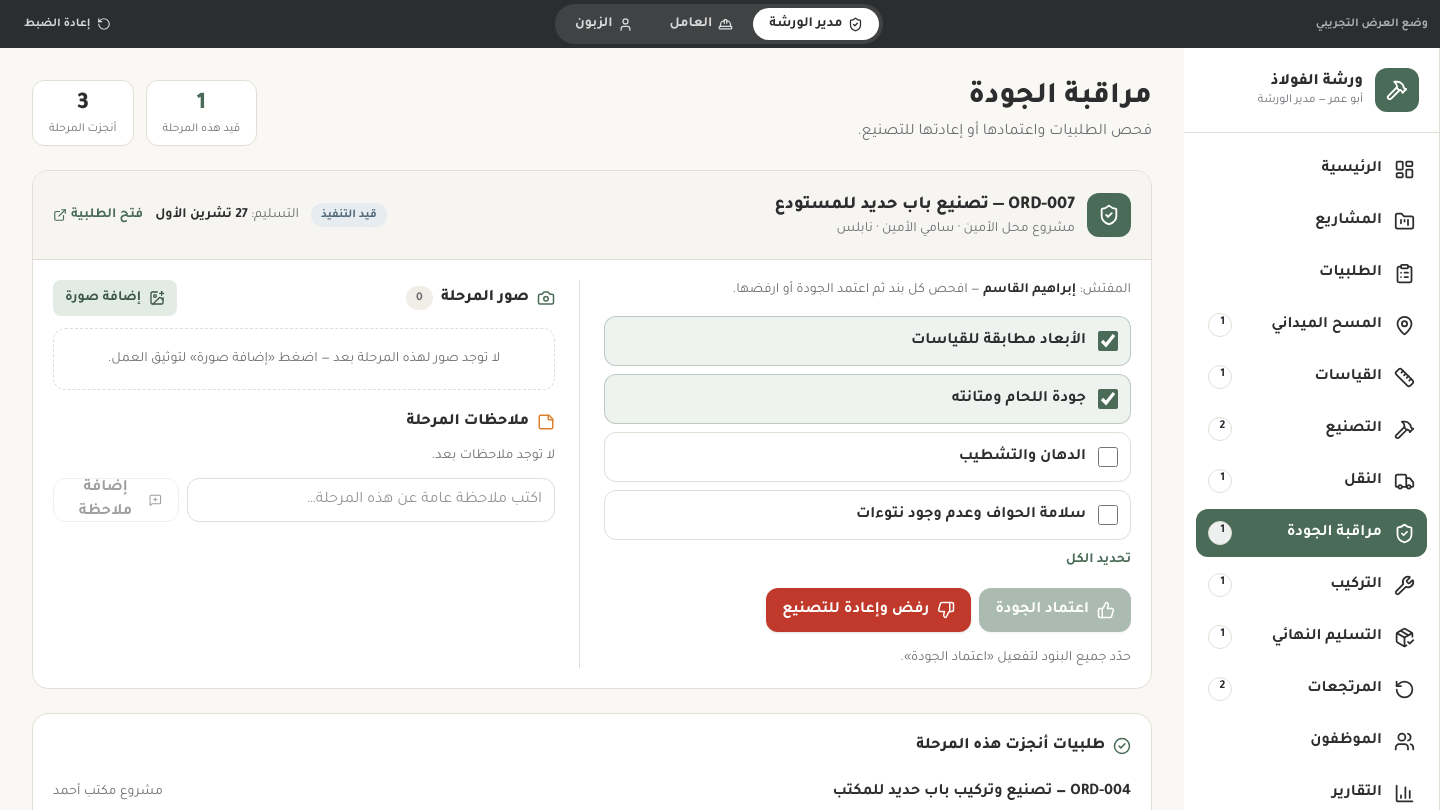
flows › admin quality reject sends back
Click the button "رفض وإعادة للتصنيع" at (869, 610), box 766,588 -> 971,632
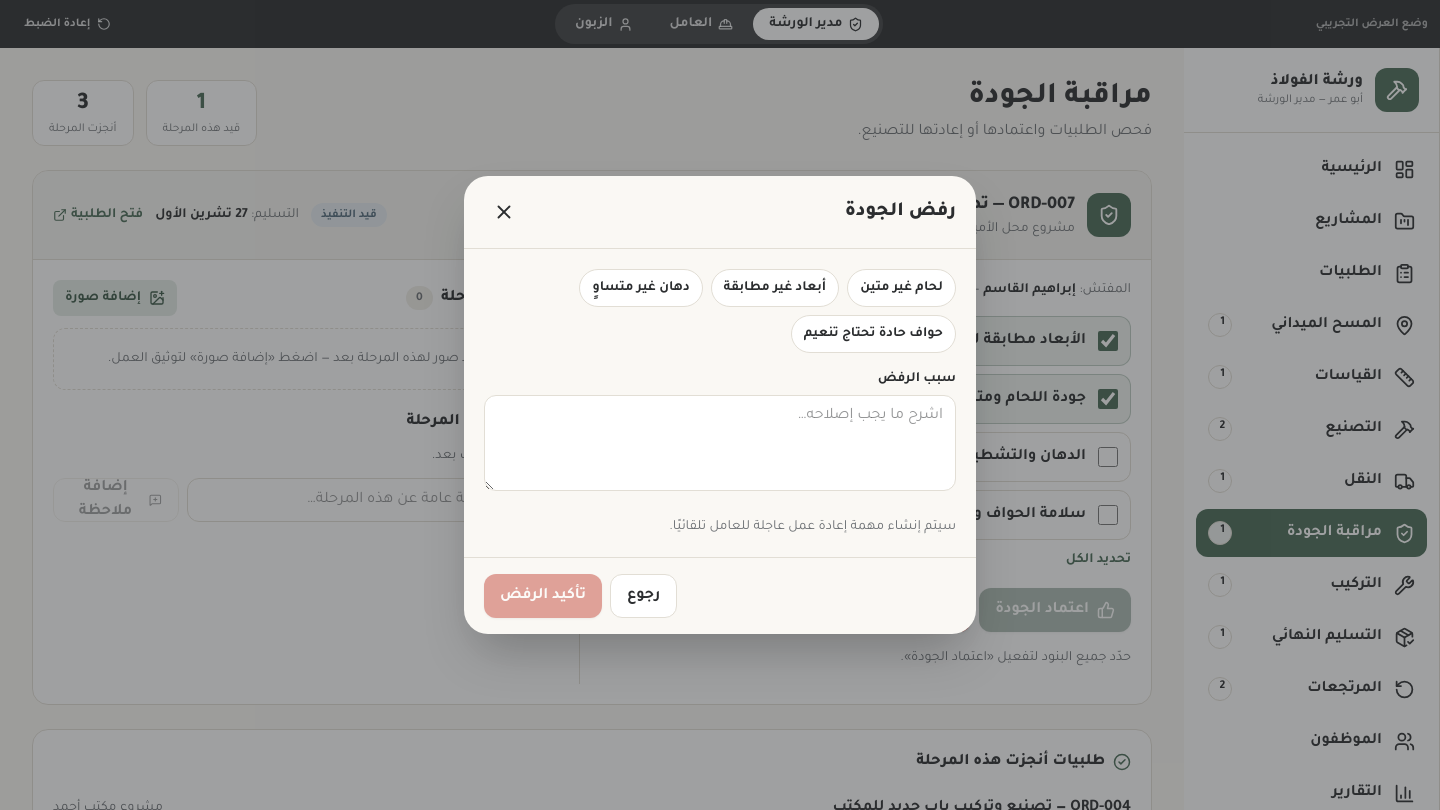
Click the button "لحام غير متين" at (902, 288), box 847,269 -> 956,307
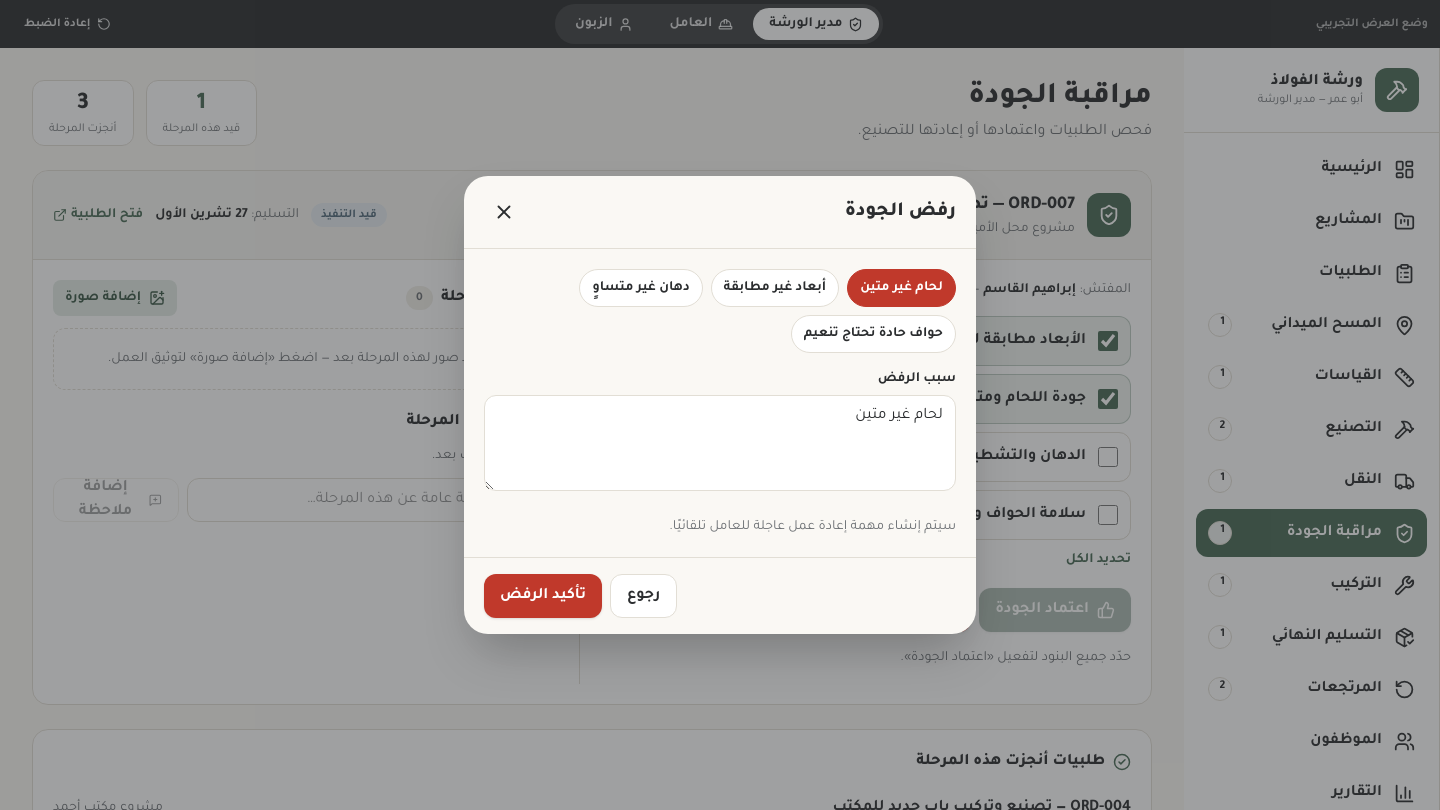
Click the button "تأكيد الرفض" at (543, 596), box 484,574 -> 602,618
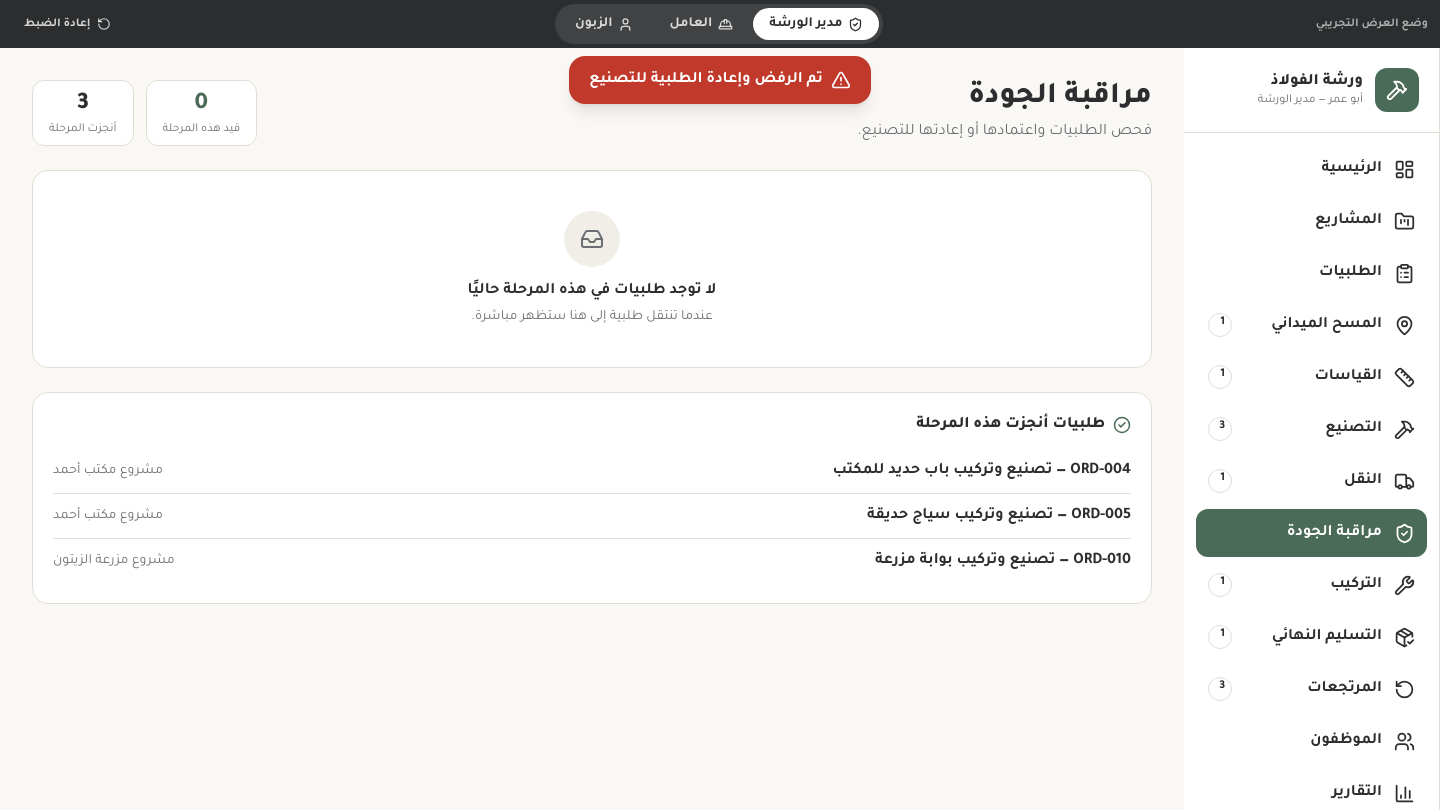
Result: the text "لا توجد طلبيات في هذه المرحلة حاليًا" is shown at 468,283 -> 716,299
